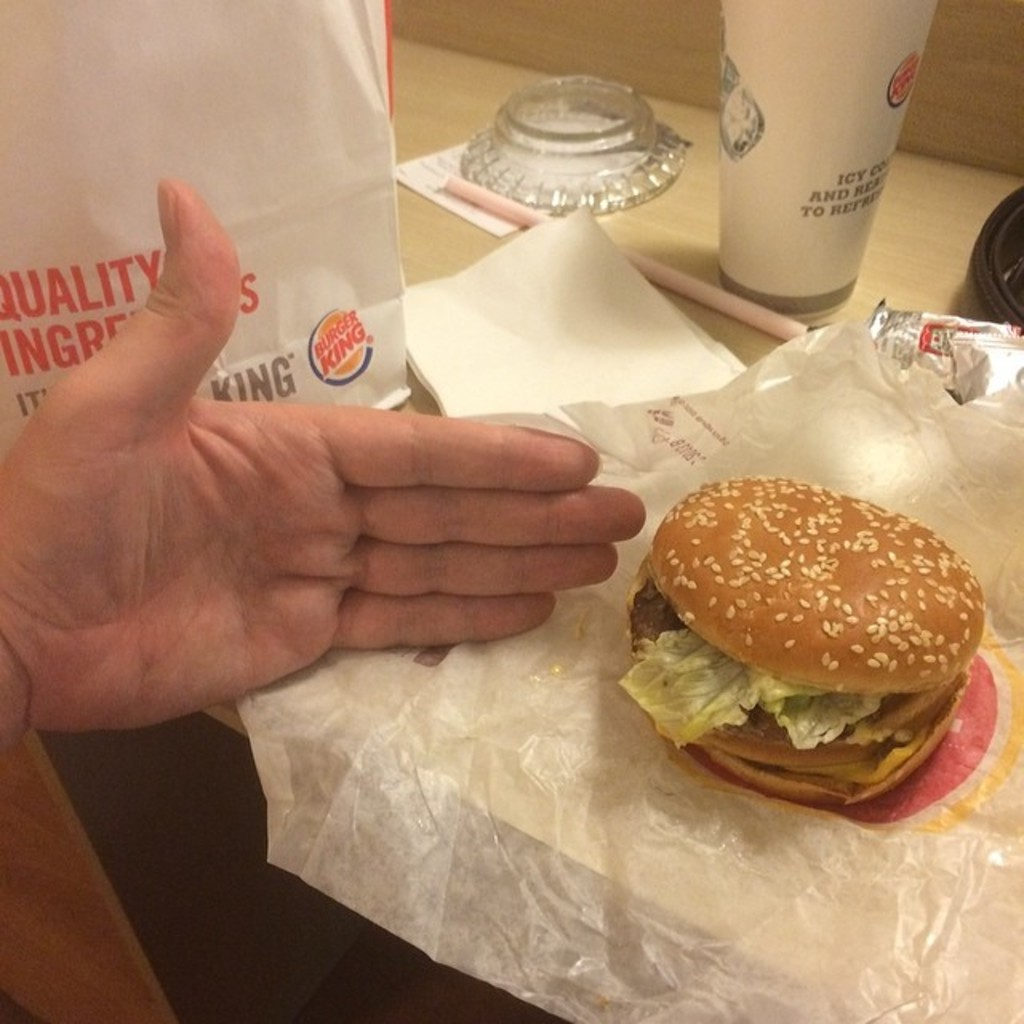Hamburger: (617, 472, 987, 811)
